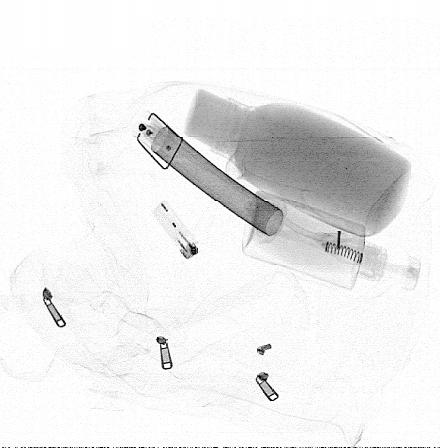Lighter: (152, 199, 200, 260)
